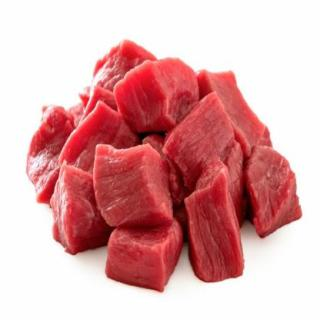Daging Sapi: (26, 39, 308, 287), (186, 167, 247, 285), (93, 143, 174, 226), (24, 103, 93, 197), (117, 58, 201, 132), (203, 71, 272, 161), (64, 102, 144, 175), (163, 95, 234, 176), (111, 224, 184, 293), (53, 166, 111, 252), (251, 145, 302, 235), (91, 47, 155, 113)
